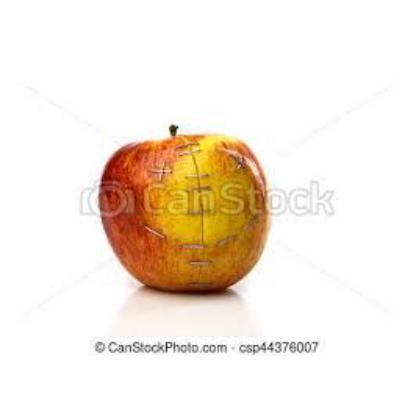damaged_apple: (97, 134, 275, 290)
